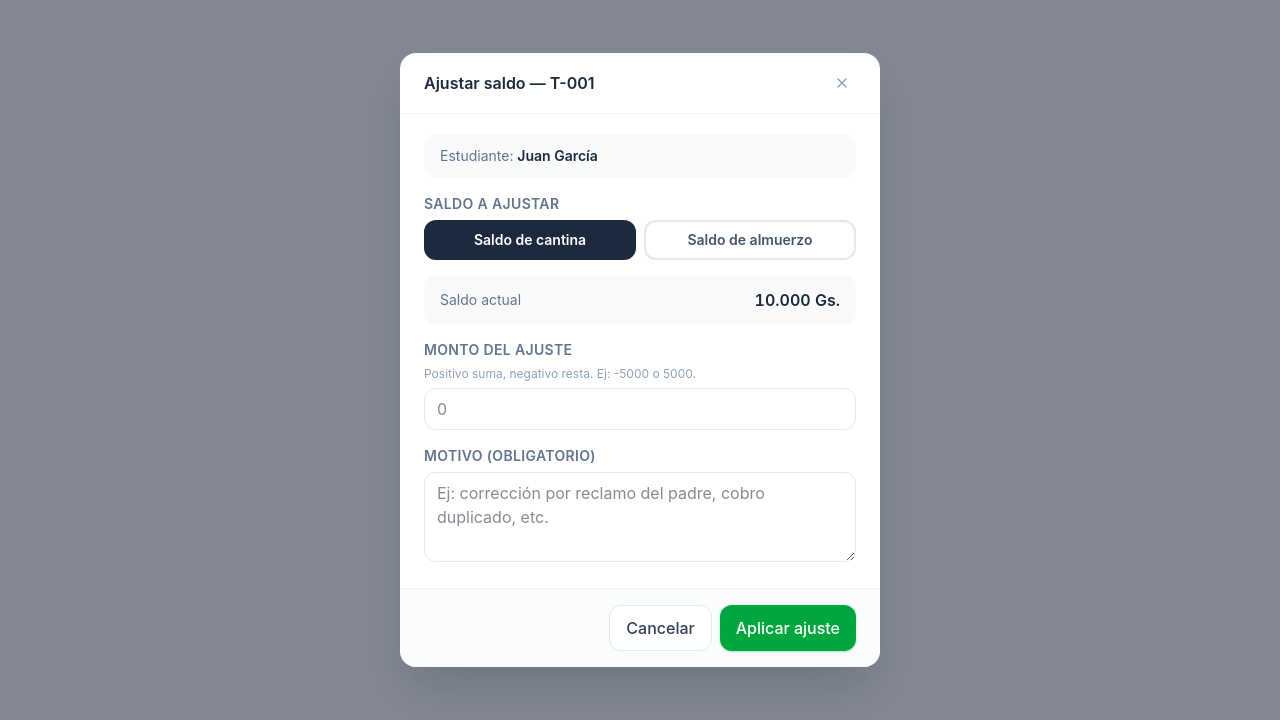
Test: ModalAjustarSaldo › muestra el saldo resultante como vista previa
This screenshot has width=1280, height=720.
Type "2500" into the number field with placeholder "0". click: (640, 409)
box: [424,388,856,430]
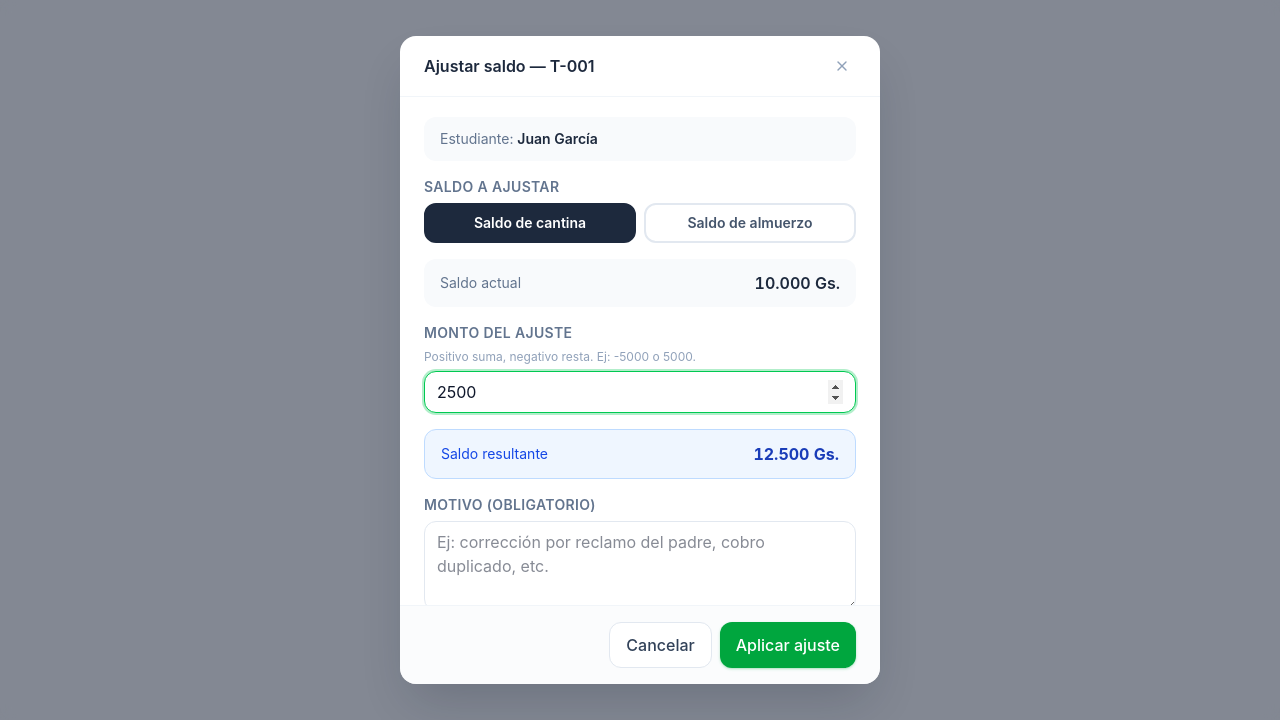
Result: the text "12.500 Gs." is shown at [753,442,839,466]
